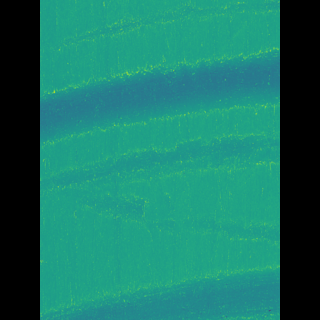Loch: (69, 134, 249, 247), (70, 44, 250, 149), (68, 266, 250, 320), (77, 0, 249, 55)
